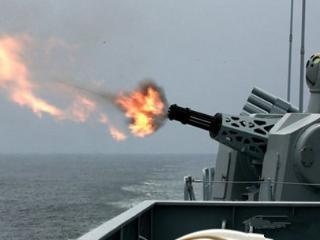fire: (110, 81, 168, 140)
